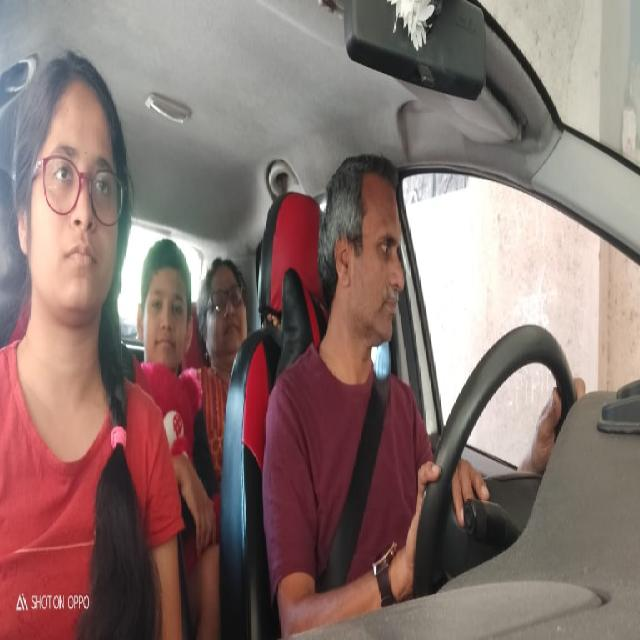LeftRight: (319, 149, 414, 356)
person: (11, 62, 128, 335), (142, 237, 196, 364), (204, 248, 250, 360)
